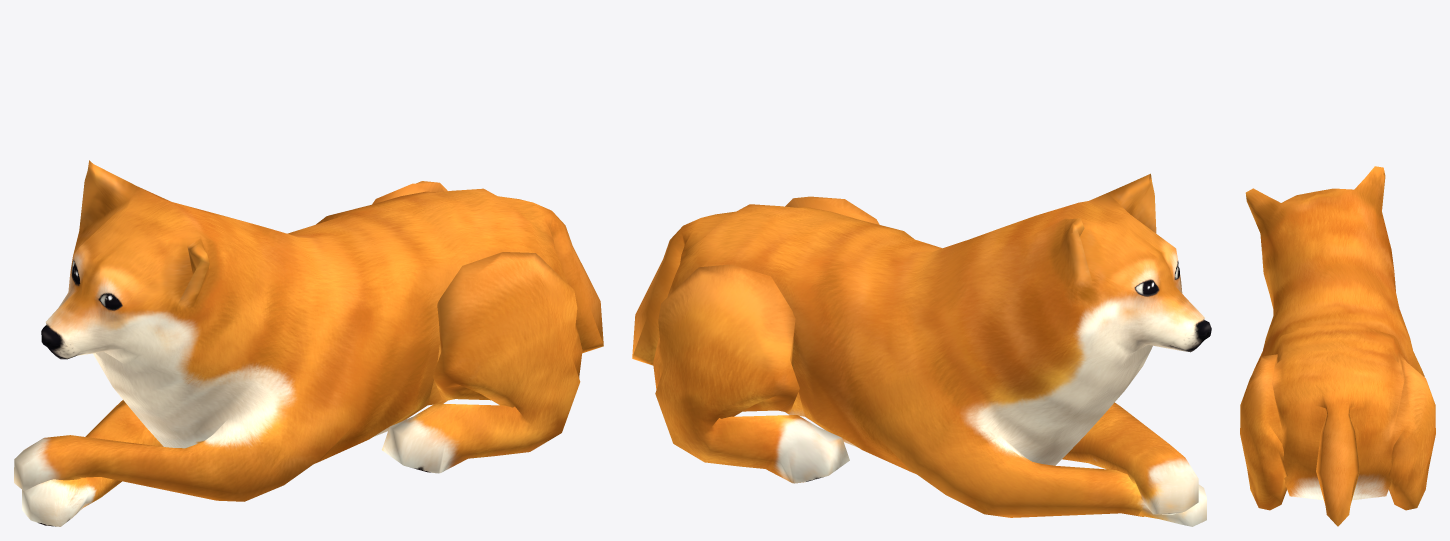
The model's file is SmallDoge.glb.
3 views of the same model, side by side, from view 1: azimuth 30°, elevation 25°; view 2: azimuth 150°, elevation 25°; view 3: azimuth 270°, elevation 25° (orthographic). The views are drawn at different scales.
Parts seen in each view (by area): view 1: DealWithItDoge_polySurface75_polySurface75_Deal_With_It_Mat_; view 2: DealWithItDoge_polySurface75_polySurface75_Deal_With_It_Mat_; view 3: DealWithItDoge_polySurface75_polySurface75_Deal_With_It_Mat_.
Boxes of the visible parts, left/top/right/bottom form: DealWithItDoge_polySurface75_polySurface75_Deal_With_It_Mat_: left=14, top=160, right=603, bottom=526; DealWithItDoge_polySurface75_polySurface75_Deal_With_It_Mat_: left=632, top=173, right=1211, bottom=526; DealWithItDoge_polySurface75_polySurface75_Deal_With_It_Mat_: left=1240, top=166, right=1435, bottom=526.
Bounding box in the file's own units: 6.31 × 5.3 × 2.65.
1 material, 1 textured.
